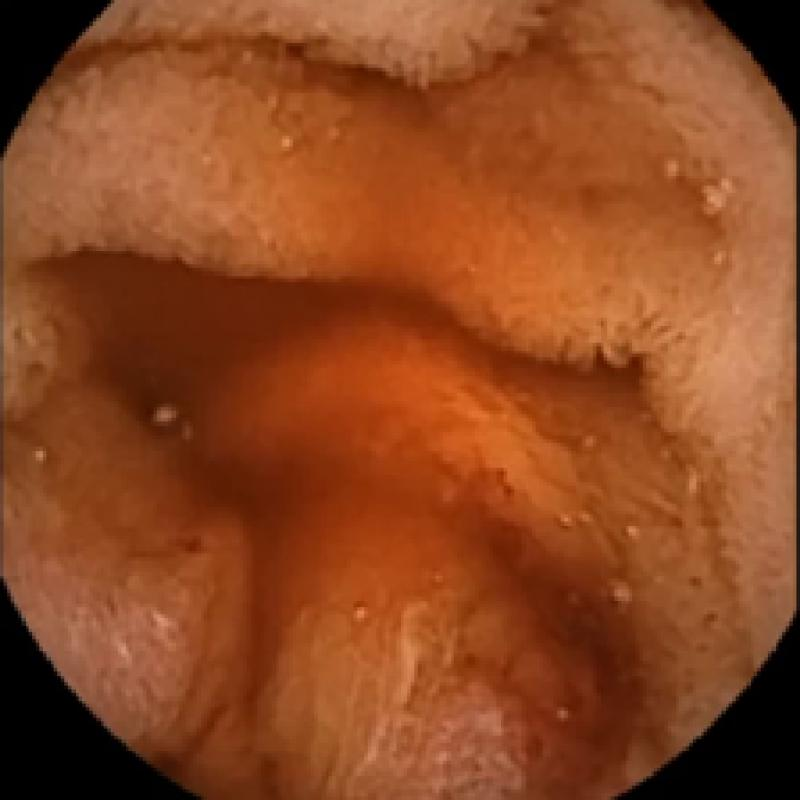bleeding: (422, 443, 678, 753)
